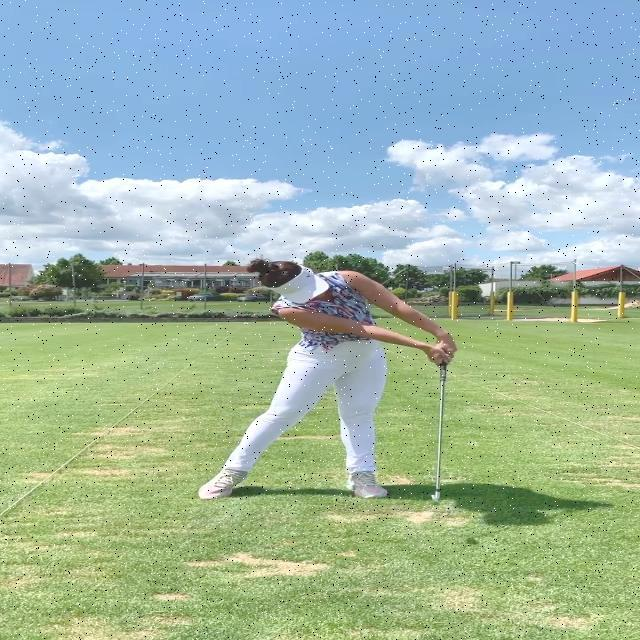ClubHandle: (430, 363, 449, 503)
ClubHead: (430, 495, 441, 503)
